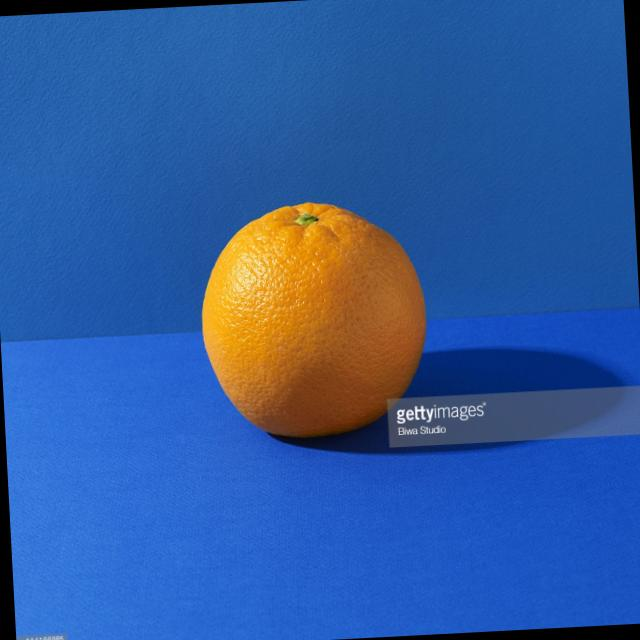orange: (196, 189, 439, 462)
